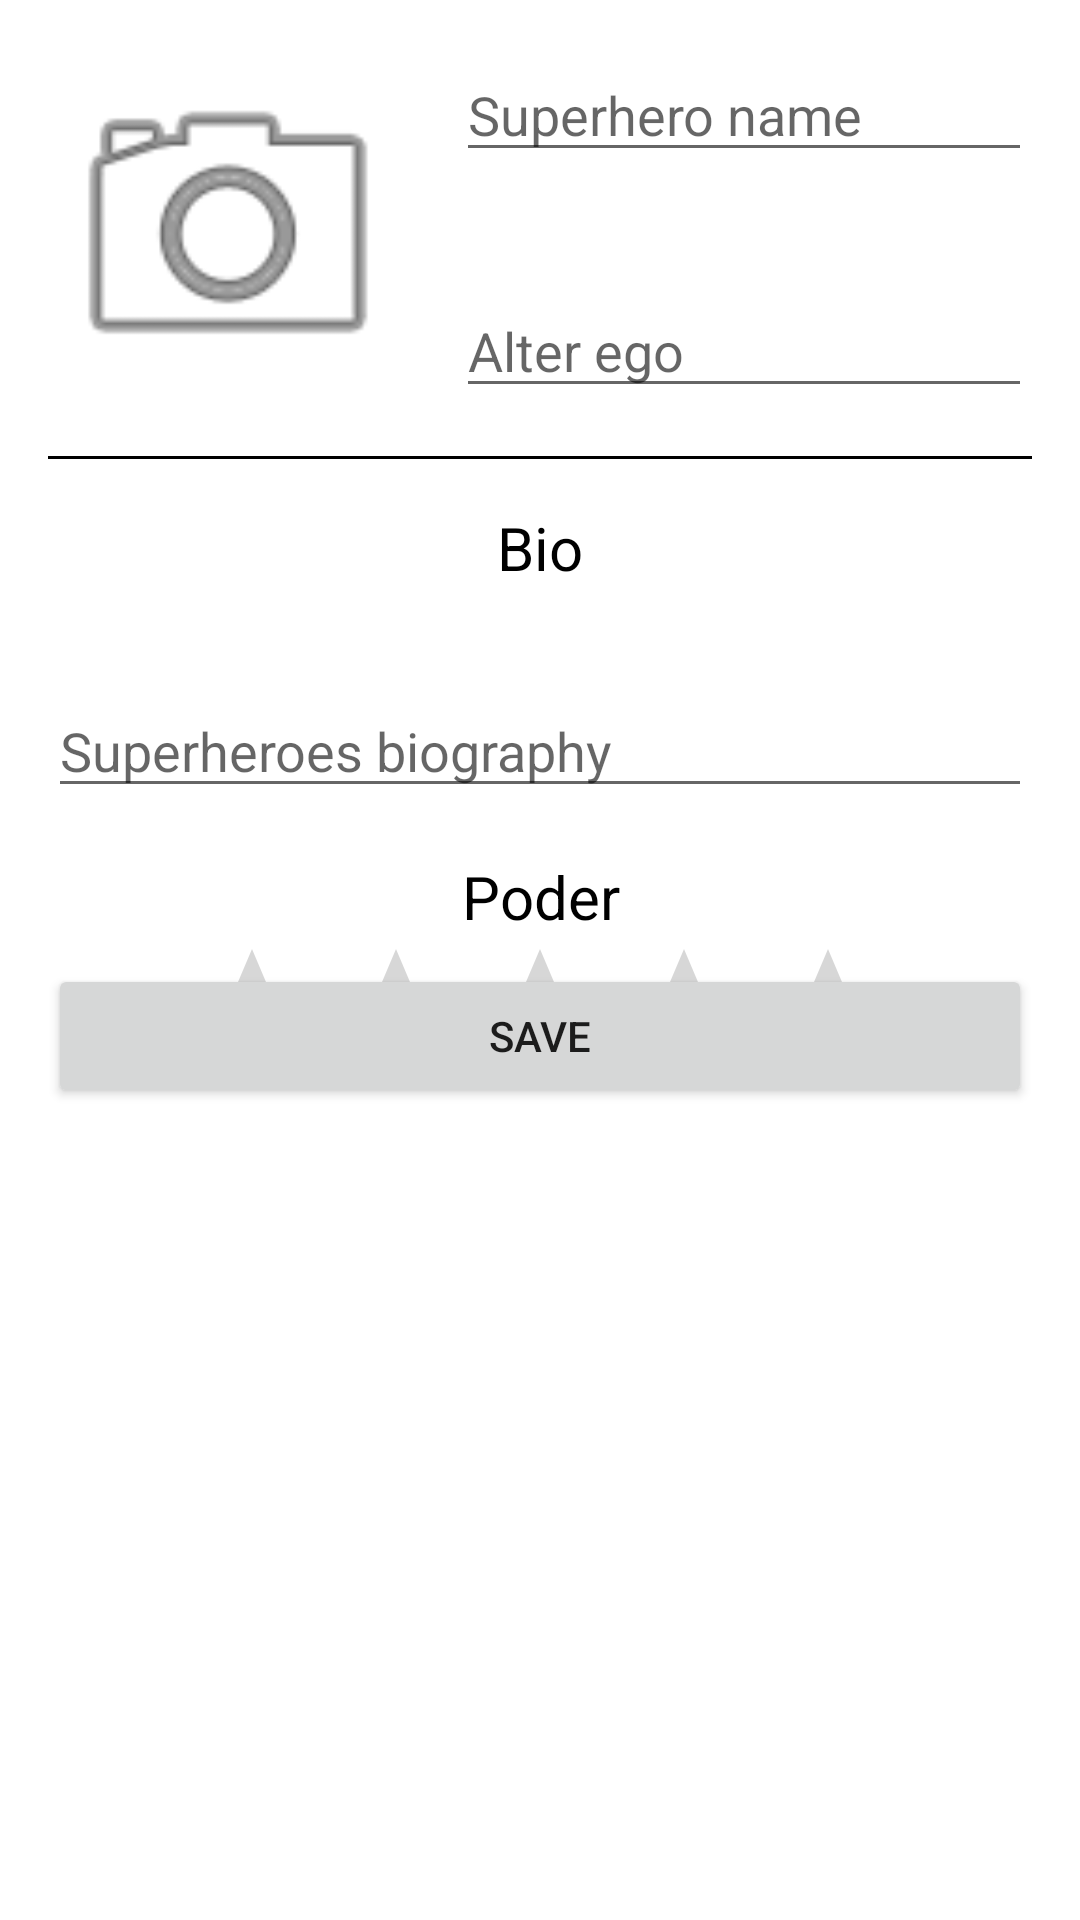

Point at icon controls on the screen. Image size 1080×1920, points as (x,y).
camera: (228,222)
